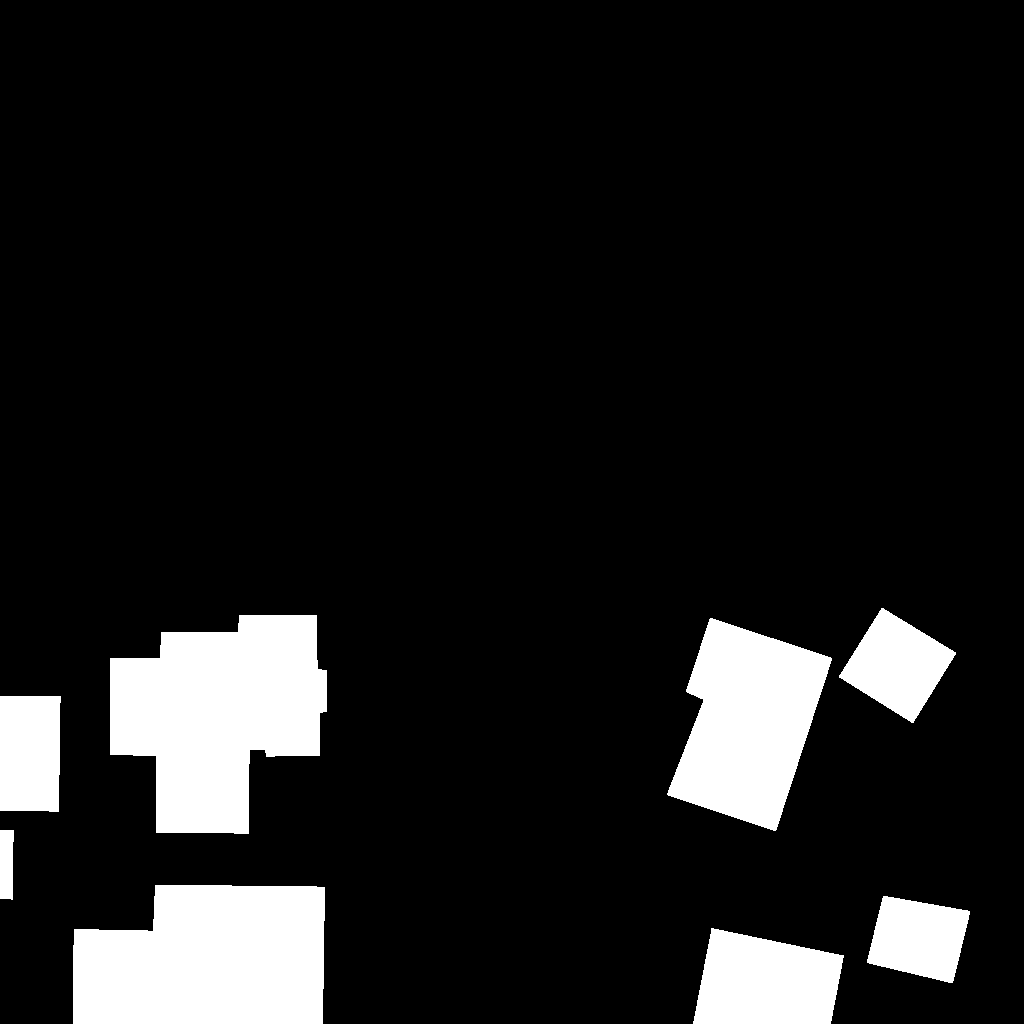building: (110, 615, 327, 834), (667, 618, 833, 832), (73, 885, 326, 1024), (693, 928, 845, 1024), (839, 608, 957, 724), (0, 696, 61, 900), (867, 896, 971, 984)
